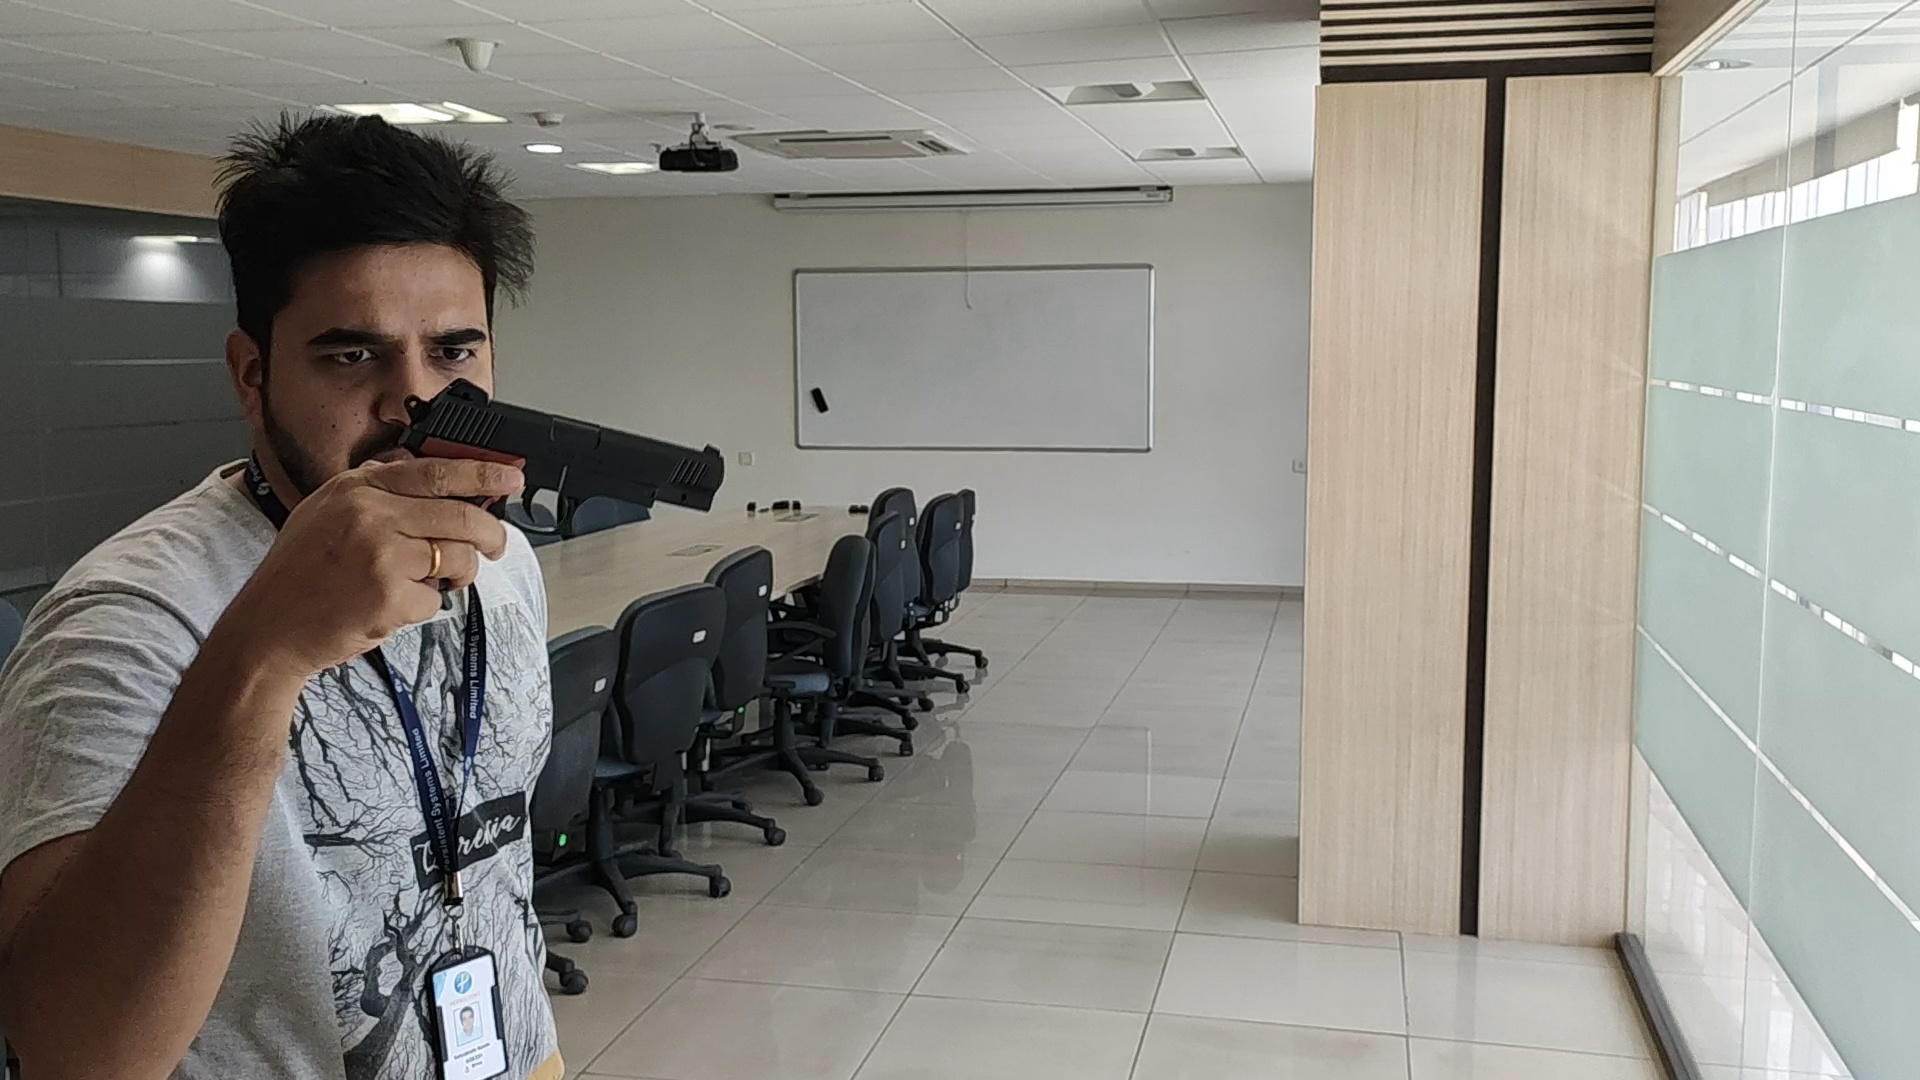gun: (404, 378, 727, 530)
